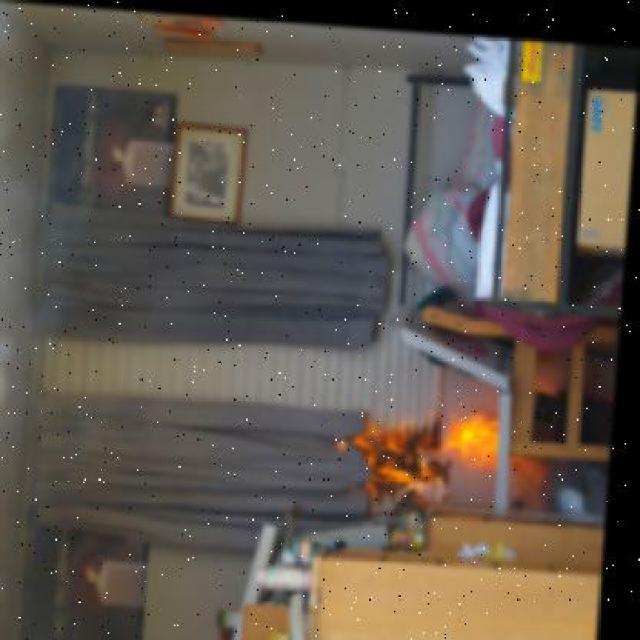fire: (332, 411, 429, 499), (427, 389, 518, 473)
